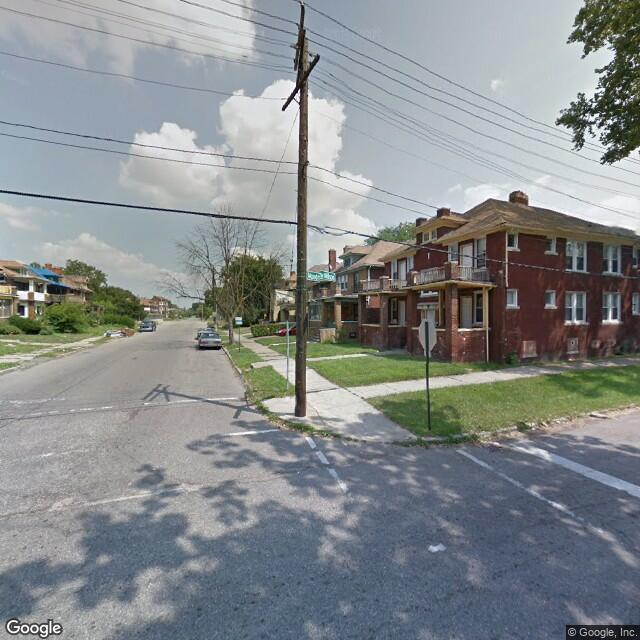litter: (588, 411, 611, 422), (424, 541, 448, 551)
